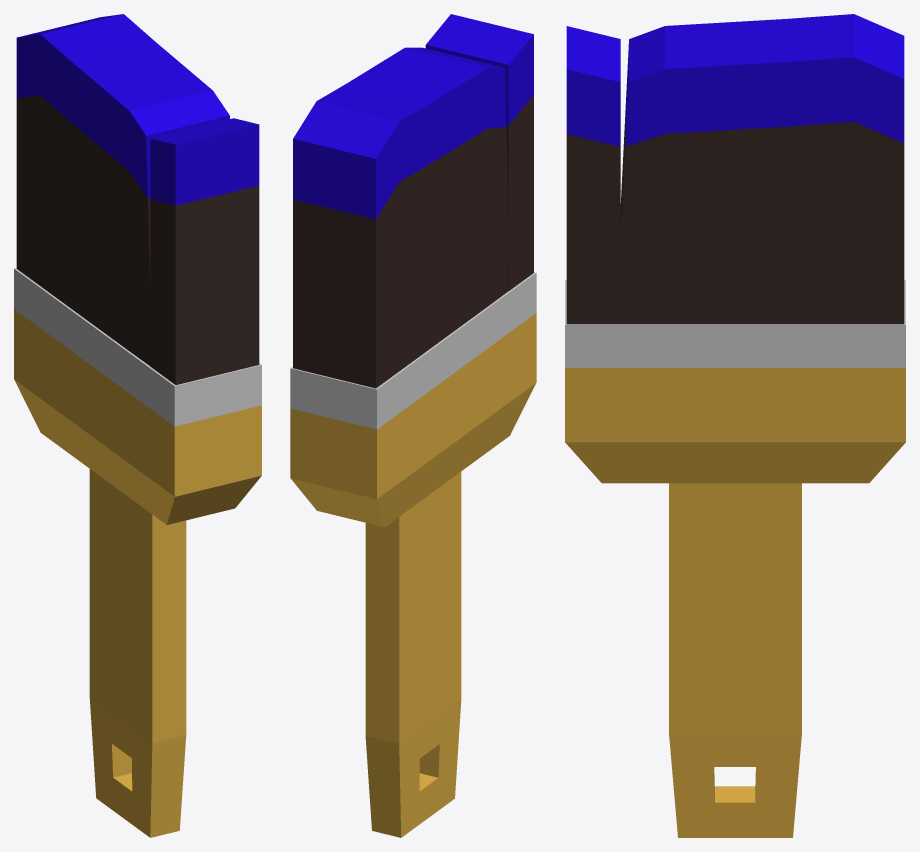
Rendered from paintBrush.fbx.
The picture shows the model from 3 angles, left to right: view 1: azimuth 30°, elevation 25°; view 2: azimuth 150°, elevation 25°; view 3: azimuth 270°, elevation 25°; orthographic projection. The views are drawn at different scales.
Parts seen in each view (by area): view 1: Cube.001, Cube; view 2: Cube.001, Cube; view 3: Cube.001, Cube.
Part boxes in pixels (<box>): Cube.001: <box>16,14,259,384</box>; Cube: <box>14,268,261,837</box>; Cube.001: <box>293,14,533,388</box>; Cube: <box>290,272,536,837</box>; Cube.001: <box>566,14,904,324</box>; Cube: <box>565,280,905,837</box>.
Bounding box in the file's own units: 2.69 × 22.12 × 8.6.
